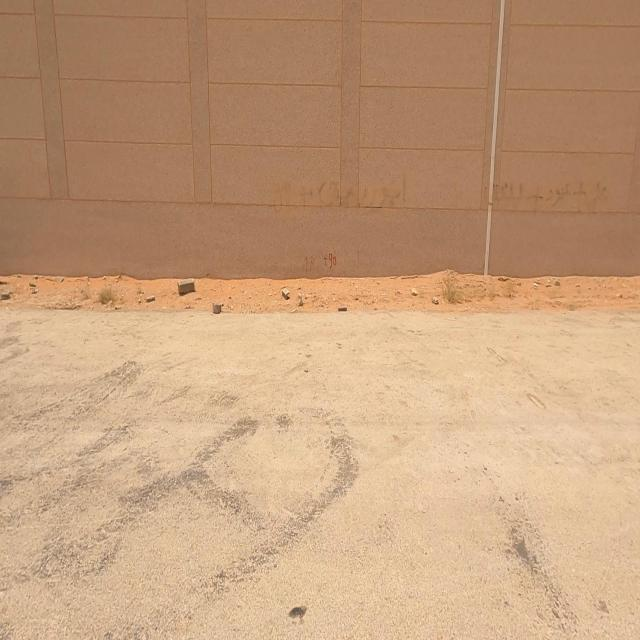Graffiti: (272, 171, 410, 213), (484, 182, 608, 210), (323, 252, 338, 270)
